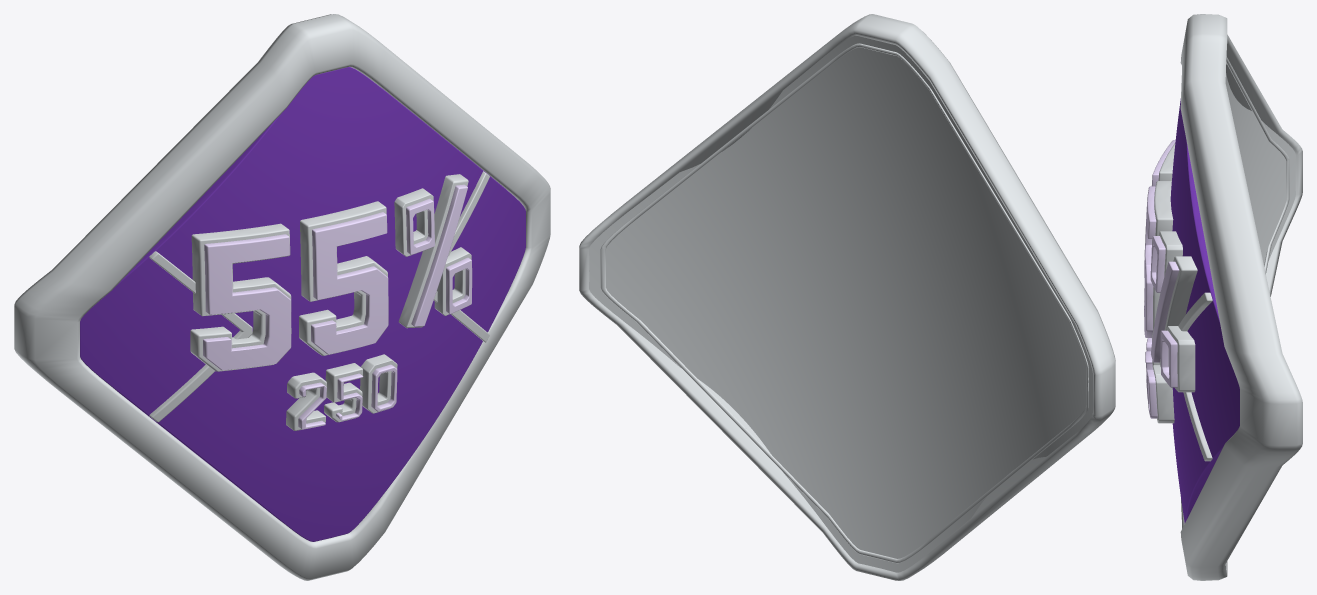
The model's file is consistent-250.glb.
3 renders of one model, left to right at view 1: azimuth 30°, elevation 25°; view 2: azimuth 150°, elevation 25°; view 3: azimuth 270°, elevation 25°, orthographic.
Visible parts, largest first — view 1: acrylic_diamond_face_conforming_007, metal_diamond_frame_007, ivory_number_55pct_0_0_conforming_002, ivory_number_55pct_1_0_conforming_002, metal_number_55pct_0_0_conforming_002, metal_number_55pct_1_0_conforming_002, metal_number_55pct_2_2_conforming_002, ivory_number_55pct_2_2_conforming_002, metal_diamond_divider_left1_conforming_007, metal_number_55pct_2_0_conforming_002, metal_number_250_0_0_conforming, metal_number_250_1_0_conforming (+6 smaller); view 2: satin_diamond_back_conforming_007, metal_diamond_frame_007, satin_diamond_rear_border_007; view 3: metal_diamond_frame_007, acrylic_diamond_face_conforming_007, satin_diamond_back_conforming_007, metal_number_55pct_2_2_conforming_002, ivory_number_55pct_1_0_conforming_002, metal_number_55pct_2_1_conforming_002, metal_diamond_divider_1_conforming_007, ivory_number_55pct_2_2_conforming_002, metal_number_55pct_1_0_conforming_002, satin_diamond_rear_border_007, ivory_number_55pct_2_1_conforming_002, metal_number_250_2_0_conforming (+5 smaller).
Part boxes in pixels (x1=…): acrylic_diamond_face_conforming_007: x1=80, y1=67, x2=525, y2=541; metal_diamond_frame_007: x1=14, y1=14, x2=550, y2=580; ivory_number_55pct_0_0_conforming_002: x1=203, y1=234, x2=291, y2=370; ivory_number_55pct_1_0_conforming_002: x1=311, y1=212, x2=388, y2=354; metal_number_55pct_0_0_conforming_002: x1=190, y1=223, x2=291, y2=371; metal_number_55pct_1_0_conforming_002: x1=299, y1=201, x2=387, y2=355; metal_number_55pct_2_2_conforming_002: x1=398, y1=174, x2=468, y2=328; ivory_number_55pct_2_2_conforming_002: x1=411, y1=184, x2=467, y2=326; metal_diamond_divider_left1_conforming_007: x1=149, y1=251, x2=252, y2=422; metal_number_55pct_2_0_conforming_002: x1=394, y1=188, x2=433, y2=256; metal_number_250_0_0_conforming: x1=286, y1=372, x2=326, y2=430; metal_number_250_1_0_conforming: x1=324, y1=363, x2=362, y2=422; satin_diamond_back_conforming_007: x1=589, y1=36, x2=1092, y2=572; metal_diamond_frame_007: x1=579, y1=14, x2=1115, y2=580; satin_diamond_rear_border_007: x1=600, y1=43, x2=1088, y2=563; metal_diamond_frame_007: x1=1180, y1=14, x2=1302, y2=580; acrylic_diamond_face_conforming_007: x1=1170, y1=98, x2=1239, y2=523; satin_diamond_back_conforming_007: x1=1225, y1=73, x2=1295, y2=265; metal_number_55pct_2_2_conforming_002: x1=1159, y1=256, x2=1197, y2=366; ivory_number_55pct_1_0_conforming_002: x1=1144, y1=186, x2=1156, y2=337; metal_number_55pct_2_1_conforming_002: x1=1166, y1=326, x2=1195, y2=392; metal_diamond_divider_1_conforming_007: x1=1178, y1=292, x2=1212, y2=461; ivory_number_55pct_2_2_conforming_002: x1=1151, y1=261, x2=1179, y2=362; metal_number_55pct_1_0_conforming_002: x1=1151, y1=181, x2=1173, y2=340; satin_diamond_rear_border_007: x1=1226, y1=57, x2=1289, y2=273; ivory_number_55pct_2_1_conforming_002: x1=1160, y1=330, x2=1177, y2=387; metal_number_250_2_0_conforming: x1=1153, y1=365, x2=1174, y2=423.
Bounding box in the file's own units: 2 × 2 × 0.5269.
